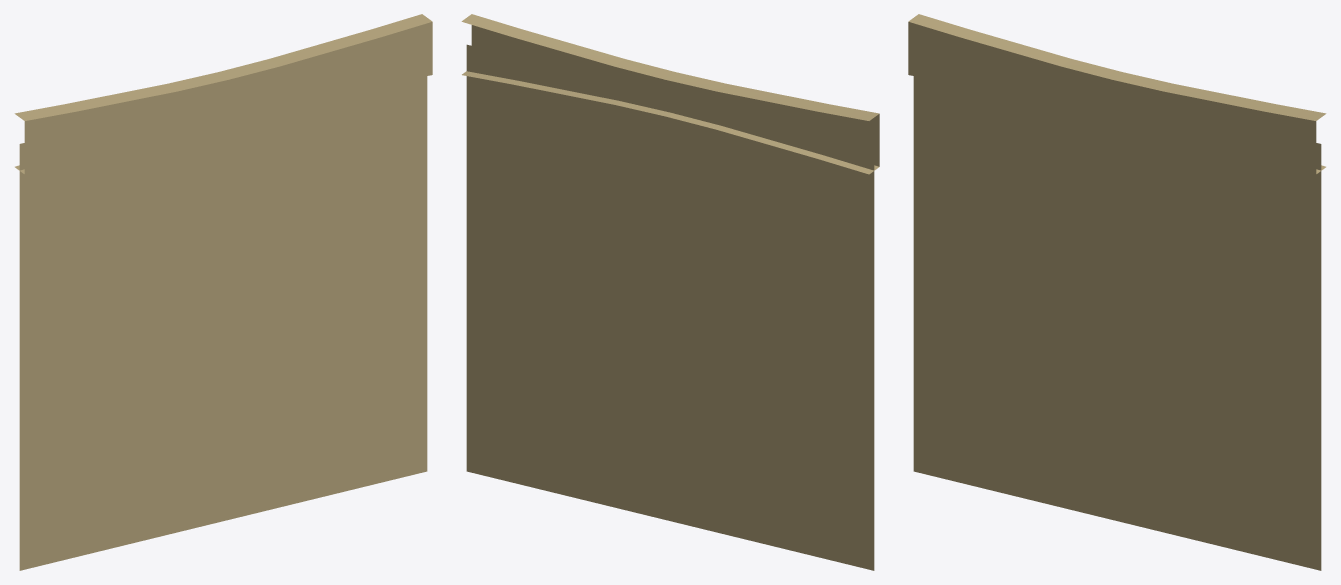
File: Wall_1.fbx
The picture shows the model from 3 angles, left to right: view 1: azimuth 30°, elevation 25°; view 2: azimuth 150°, elevation 25°; view 3: azimuth 330°, elevation 25°; orthographic projection.
Visible parts, largest first — view 1: Wall_1; view 2: Wall_1; view 3: Wall_1.
Part boxes in pixels (left/top/right/bottom): Wall_1: left=14, top=14, right=432, bottom=570; Wall_1: left=461, top=14, right=879, bottom=570; Wall_1: left=908, top=14, right=1326, bottom=570.
Bounding box in the file's own units: 4 × 4.25 × 0.1781.
